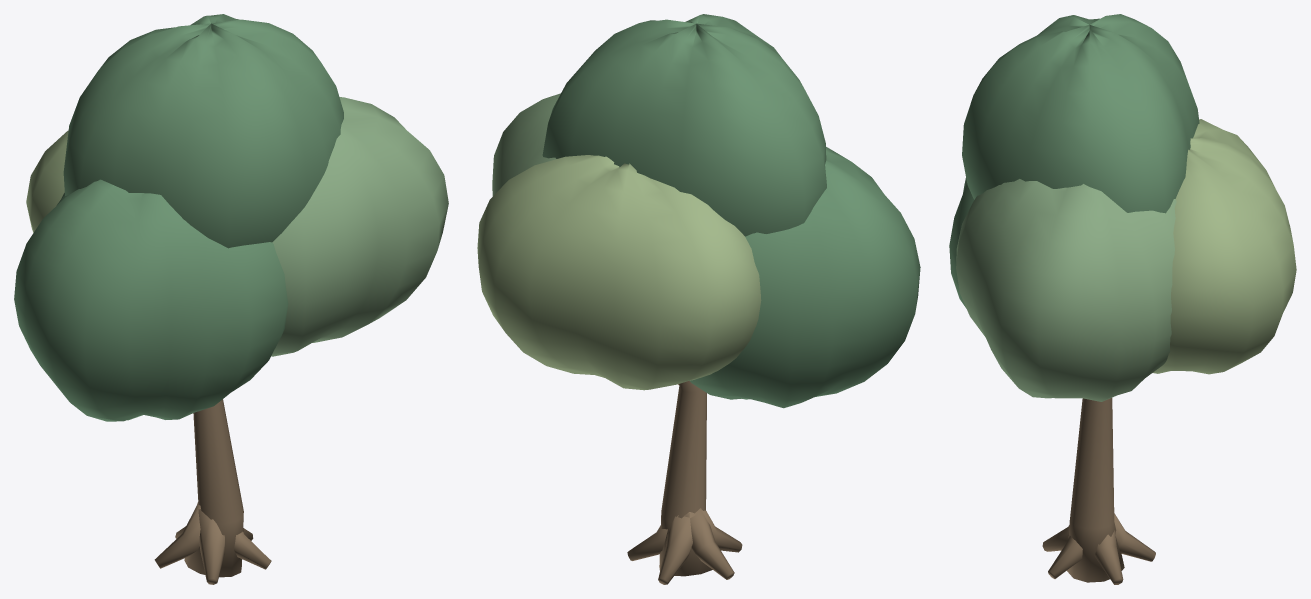
The model's file is SM_Broadleaf_00_UV_0043.fbx.
The picture shows the model from 3 angles, left to right: view 1: azimuth 30°, elevation 25°; view 2: azimuth 150°, elevation 25°; view 3: azimuth 270°, elevation 25°; orthographic projection.
Visible parts, largest first — view 1: SM_Broadleaf_00_UV_0043; view 2: SM_Broadleaf_00_UV_0043; view 3: SM_Broadleaf_00_UV_0043.
Part boxes in pixels (x1,y1,x2,y2): SM_Broadleaf_00_UV_0043: (14,14,448,584); SM_Broadleaf_00_UV_0043: (477,14,920,584); SM_Broadleaf_00_UV_0043: (949,14,1296,584).
Size of the model in its own units: 786 by 586 by 1012.
